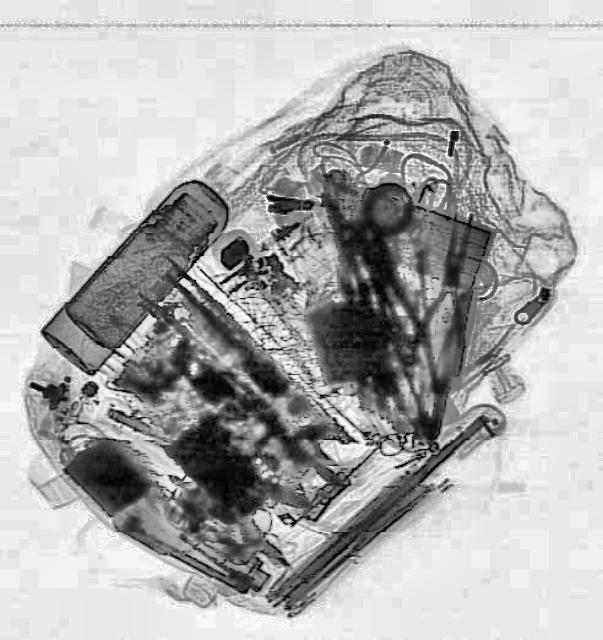Pliers: (406, 205, 492, 368)
